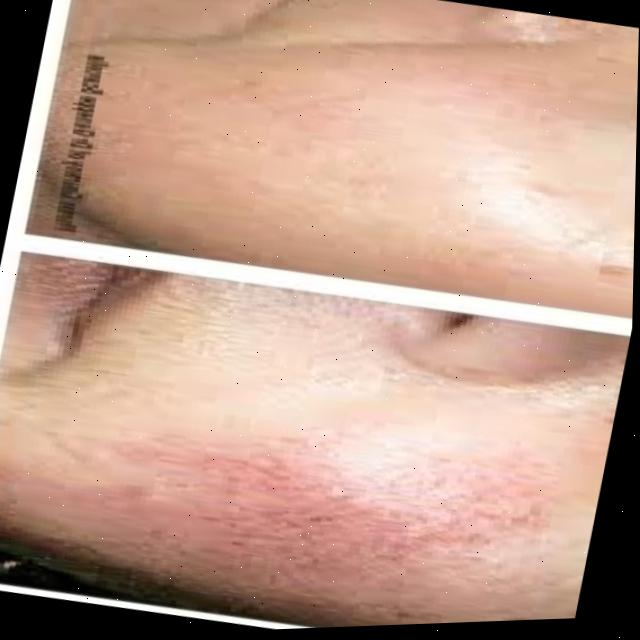Rosacea: (98, 398, 532, 636)
